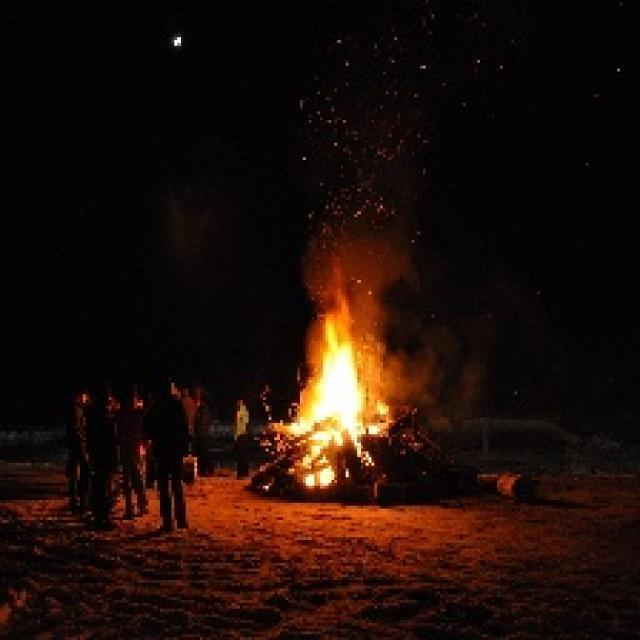fire: (307, 318, 364, 439)
